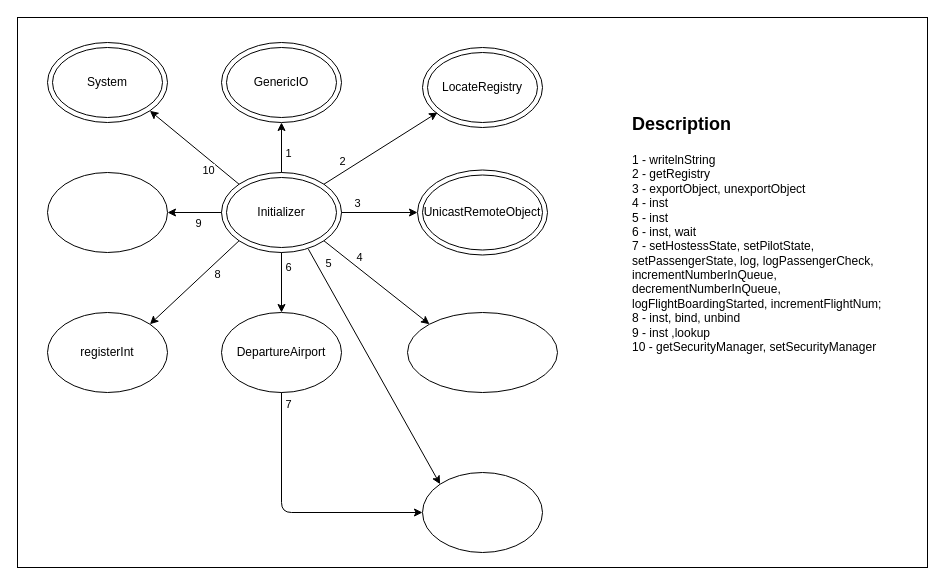
Image size: 945x585. Some labels were removed from this diagram. Each missing label, with the centre of its shape:
"DepartureAirportInterface" goes at (482,352).
"registry" goes at (107,212).
"RepoInt" goes at (482,512).
